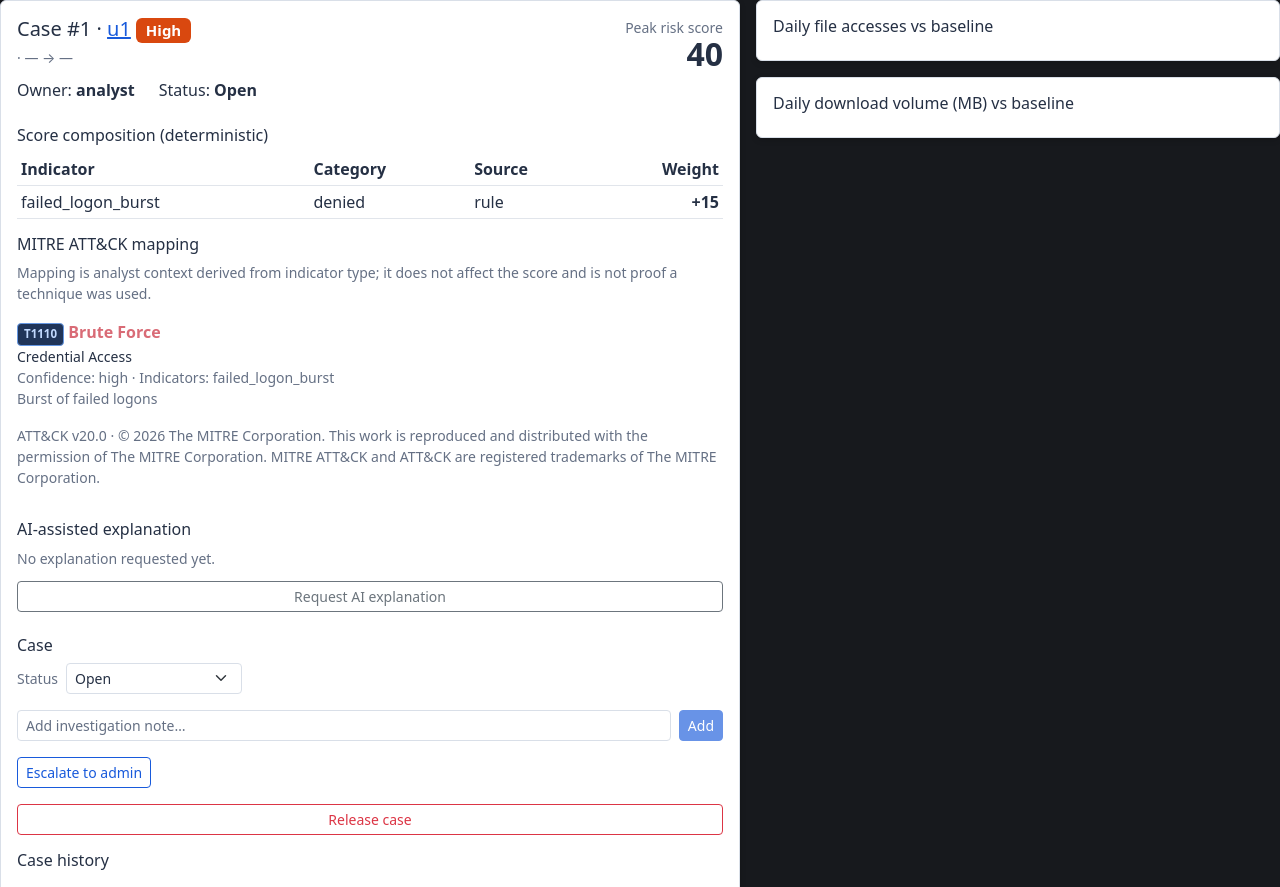
it: releases an owned case with a reason and returns to read-only details
This screenshot has width=1280, height=887.
Click the button "Release case" at (370, 819), box [17,804,723,835]
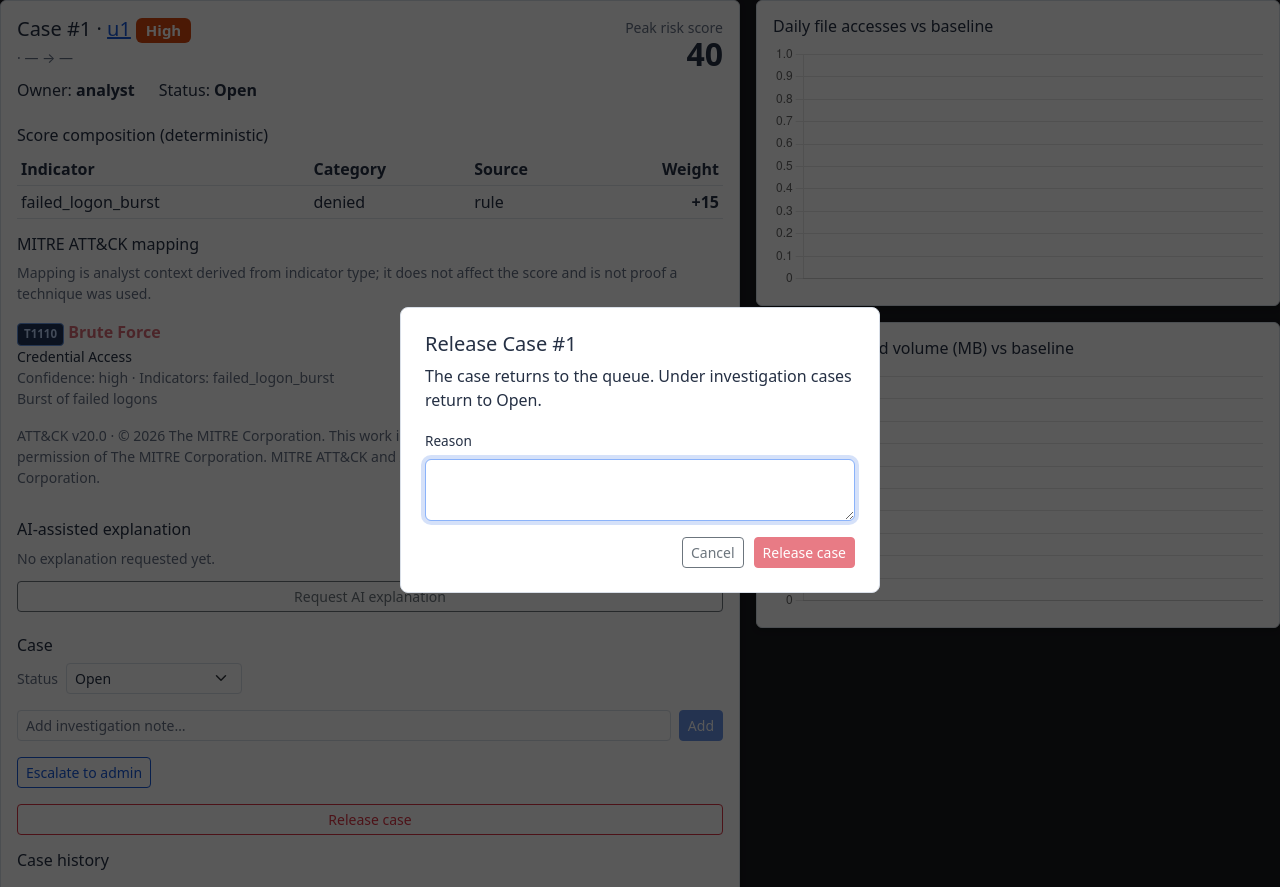
Expected: the button "Release case" is disabled, [754,537,855,568]
Type "End of shift handoff" into the text box labelled "Reason" at (640, 490), box [425,459,855,521]
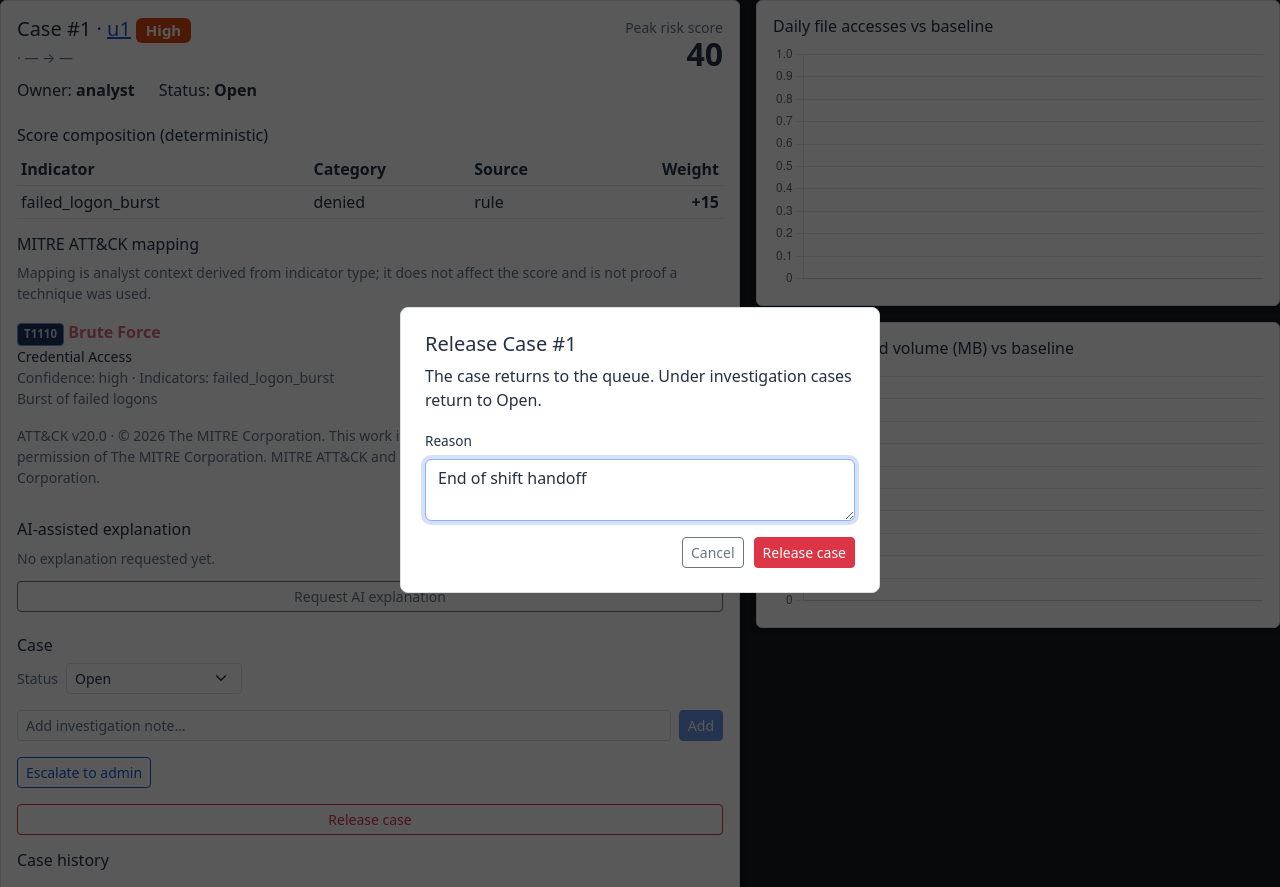
Click the button "Release case" at (804, 553), box [754,537,855,568]
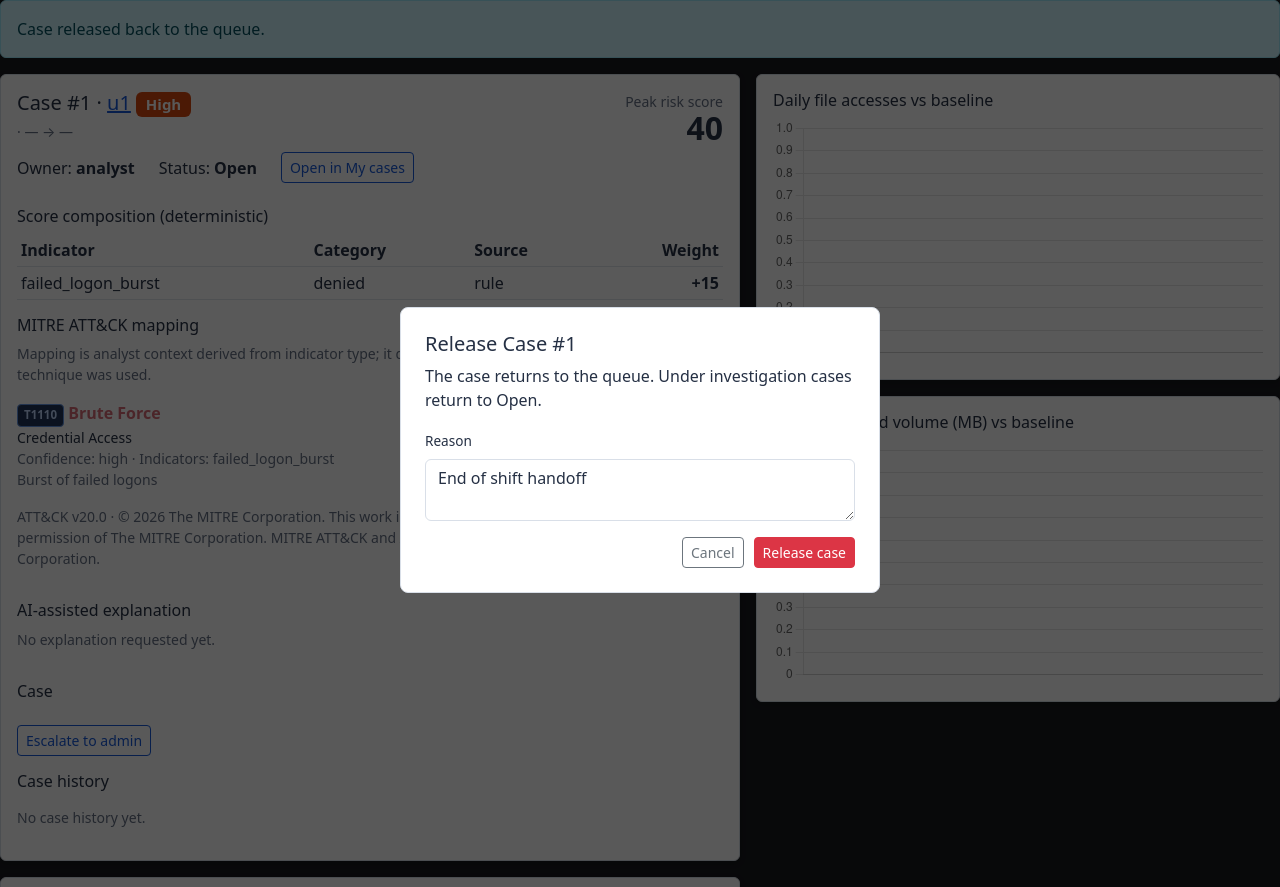
Expected: the field labelled "Investigation note" is not shown
Expected: the text "Case released back to the queue." is shown, [0,0,1279,58]
